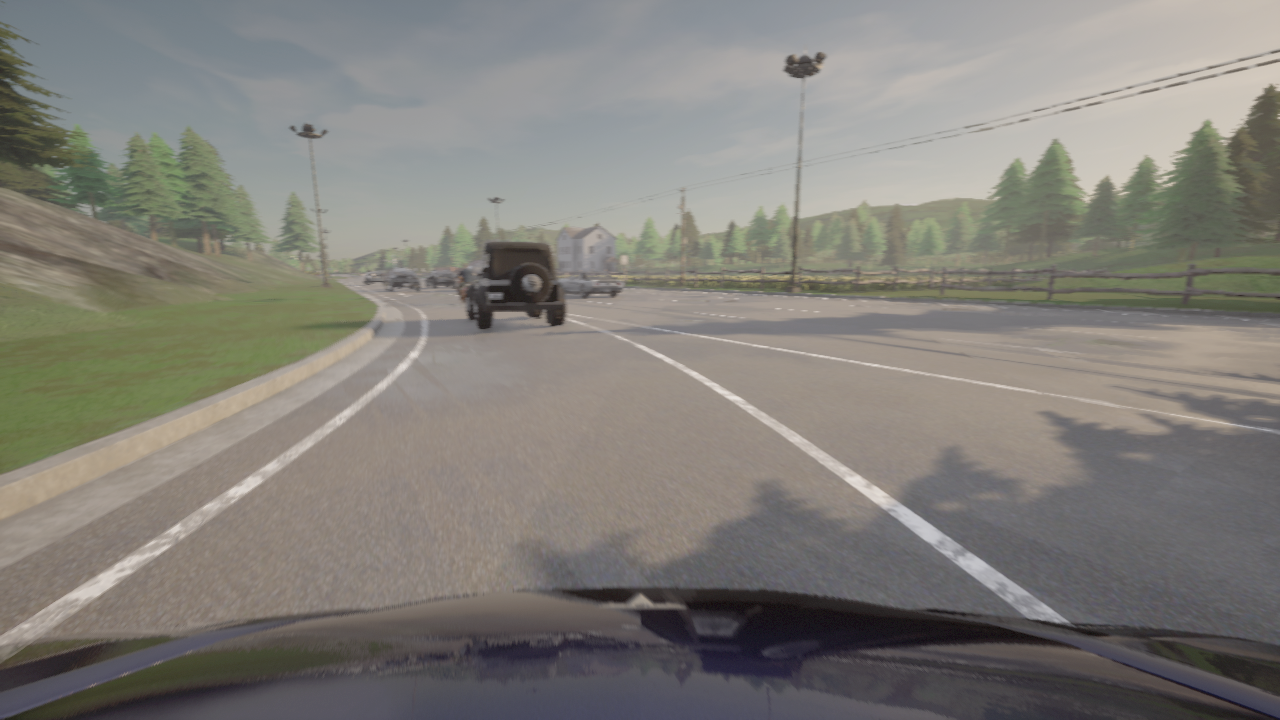cyclist: (0, 588, 1279, 719), (465, 241, 565, 329), (559, 272, 623, 297), (382, 269, 420, 292), (453, 273, 471, 303), (426, 270, 455, 288), (364, 271, 385, 285), (472, 270, 480, 281), (354, 273, 356, 274)
